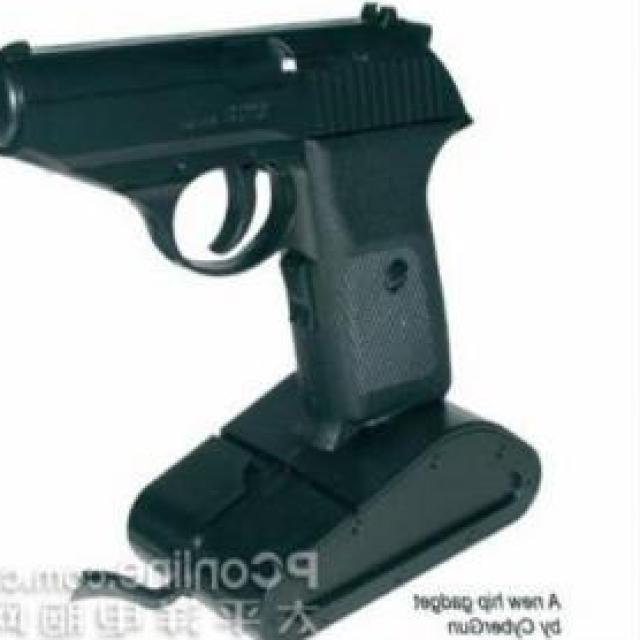pistol: (0, 2, 472, 442)
